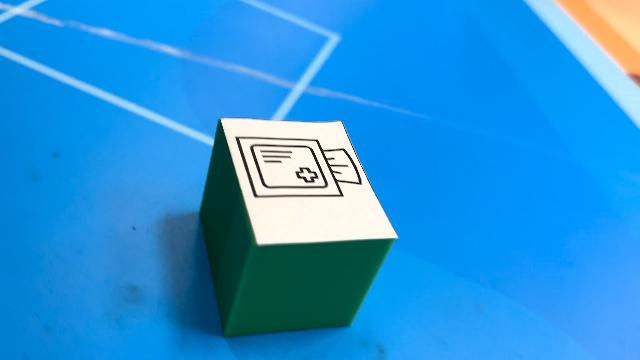napkin: (197, 116, 397, 336)
